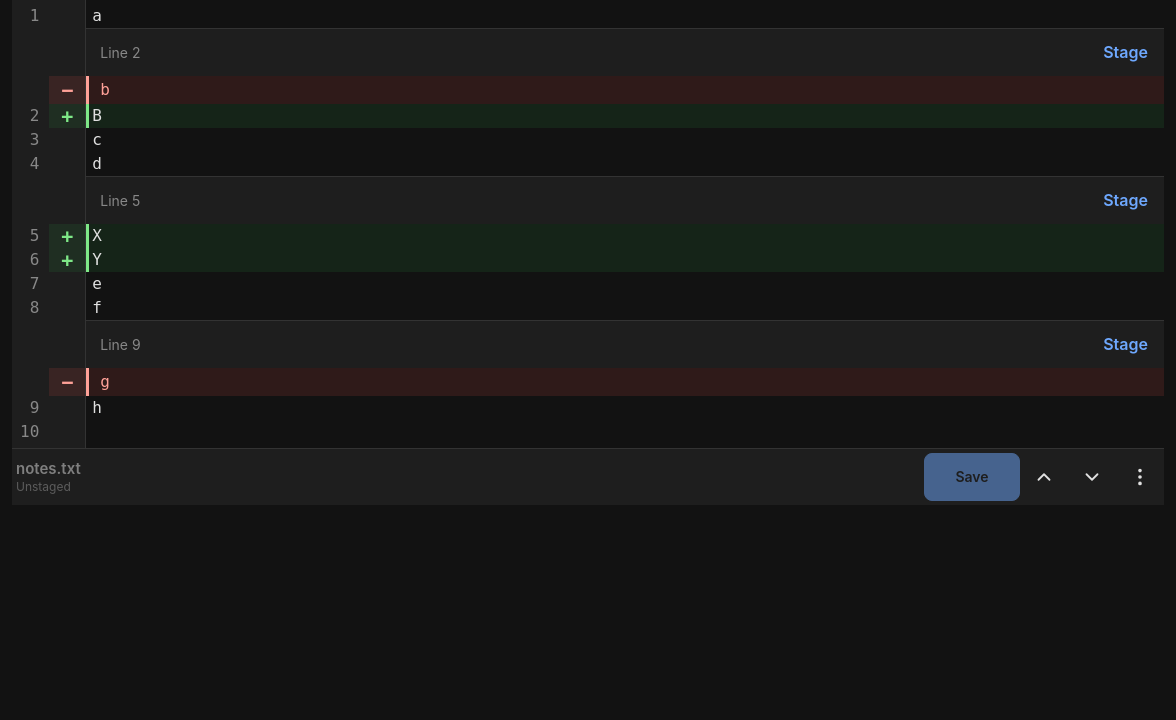
Test: change strips › drops the picks within the change it stages, and keeps the rest
This screenshot has width=1176, height=720.
Expected: the field with class "cm-content" is shown, [86,0,1164,448]
Click the 1st text with class "cm-pickTarget--line" at (67, 116), box [49,104,85,128]
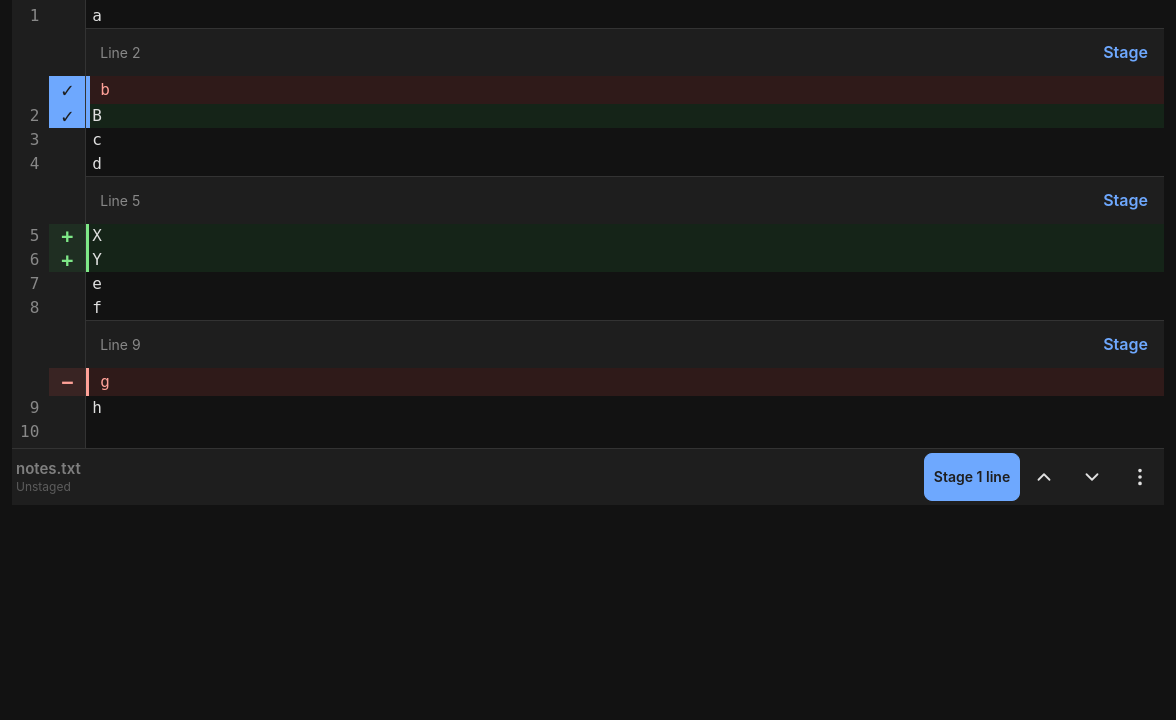
Click the 1st text "+" at (67, 236), box [49,224,85,248]
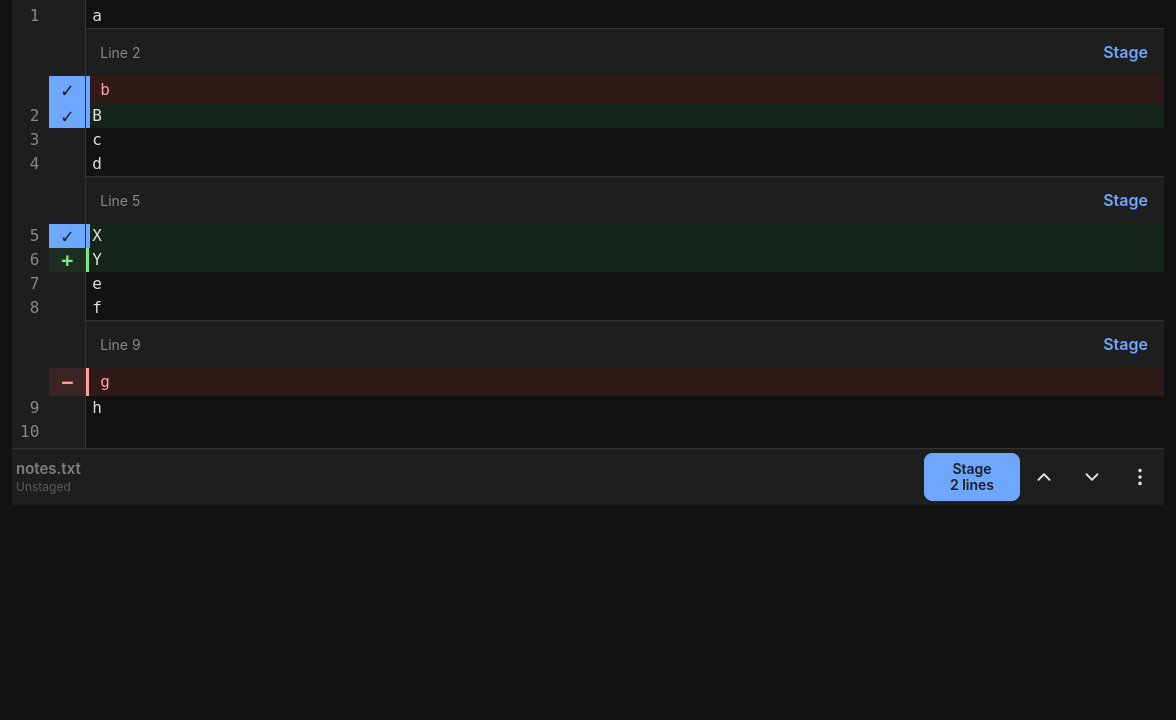
Now the button "Stage 2 lines" is shown, box [924,453,1020,501]
Click the button with aria-label "Stage the change at line 2" at (1126, 52), box [1087,28,1164,76]
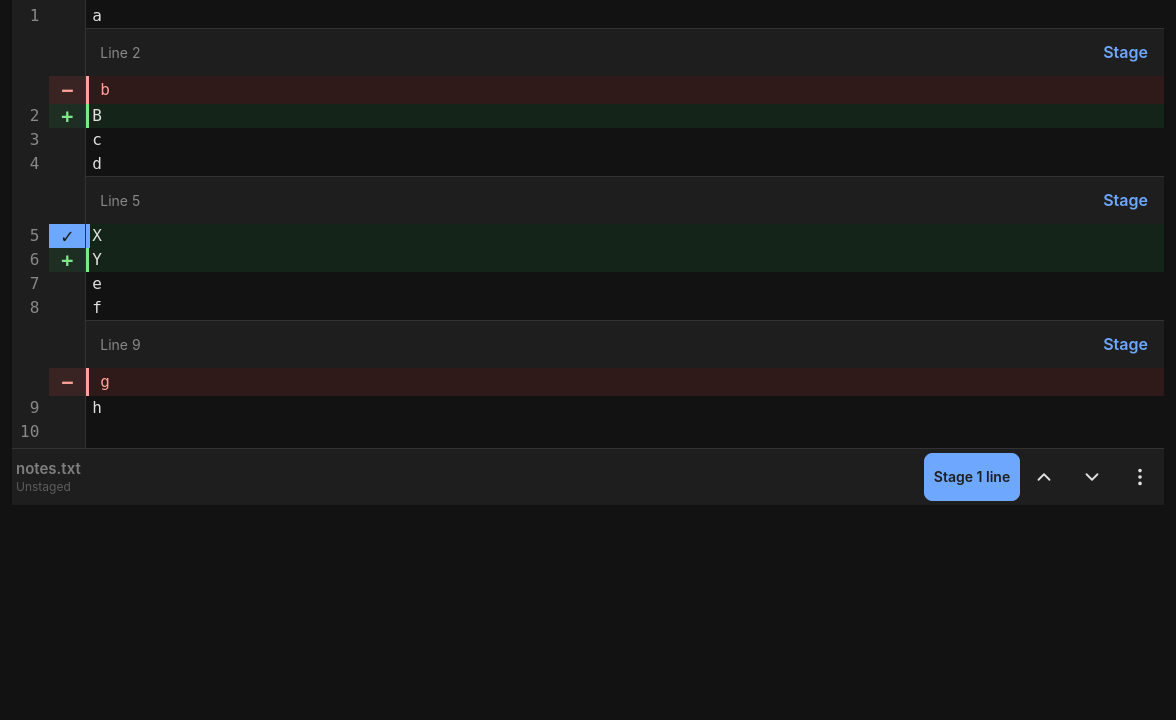
Now the button "Stage 1 line" is shown, box [924,453,1020,501]
